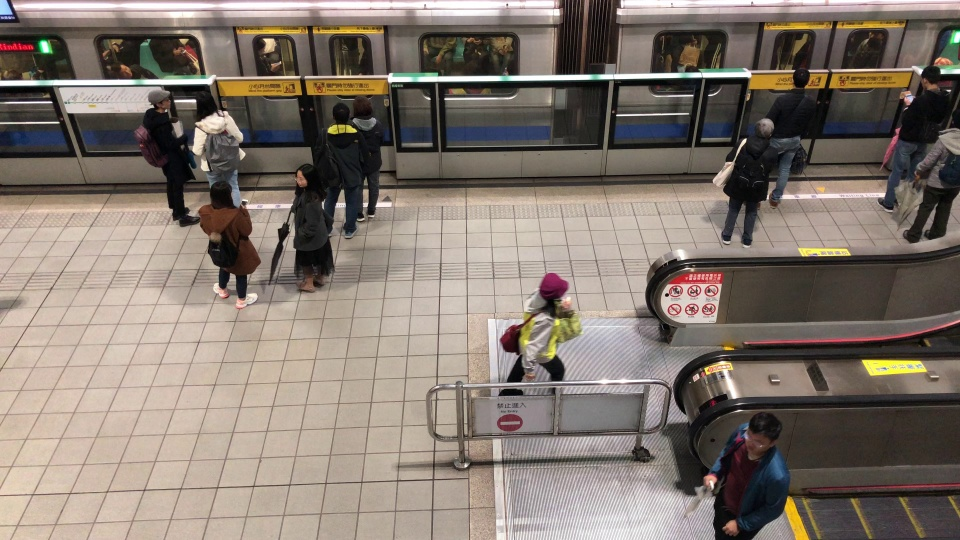person_head: (529, 269, 571, 317), (744, 407, 779, 458), (738, 113, 778, 145), (201, 182, 240, 211), (138, 86, 174, 116), (784, 61, 812, 95), (290, 157, 313, 195), (194, 95, 221, 123), (915, 63, 941, 92), (350, 95, 375, 123), (328, 94, 351, 123), (941, 111, 960, 133)
person_vbox: (674, 405, 793, 540), (484, 267, 579, 400), (876, 105, 960, 248), (693, 113, 779, 251), (875, 60, 946, 217), (121, 86, 197, 226), (759, 60, 822, 211), (190, 183, 260, 314), (279, 155, 335, 295), (182, 92, 249, 202), (294, 94, 341, 226), (350, 92, 393, 220)
